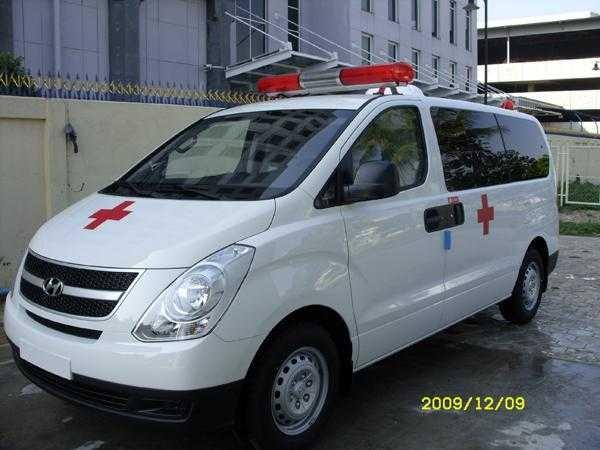car: (3, 57, 560, 448)
